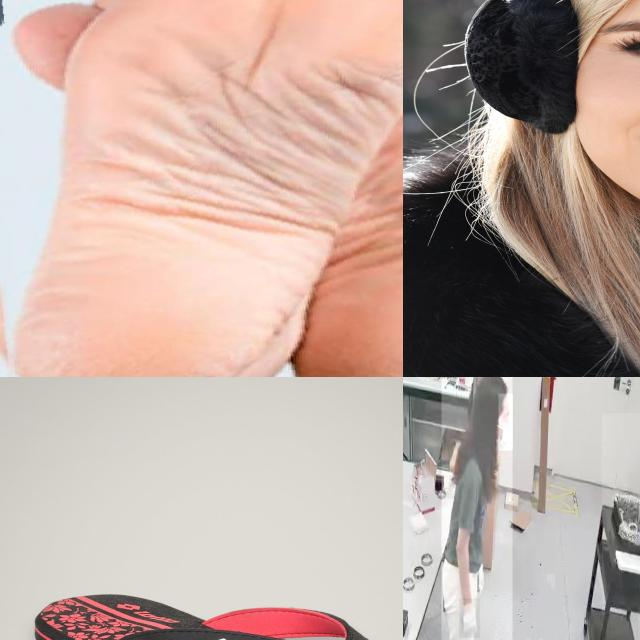Barefoots: (17, 0, 403, 377), (26, 0, 403, 376)
Ear-protection: (454, 0, 590, 137)
Sandals: (32, 592, 403, 640)
face_mask: (498, 394, 514, 451)
hand_glove: (459, 598, 481, 639)
head_nohelmet: (473, 377, 508, 396)
person: (441, 377, 512, 640)
